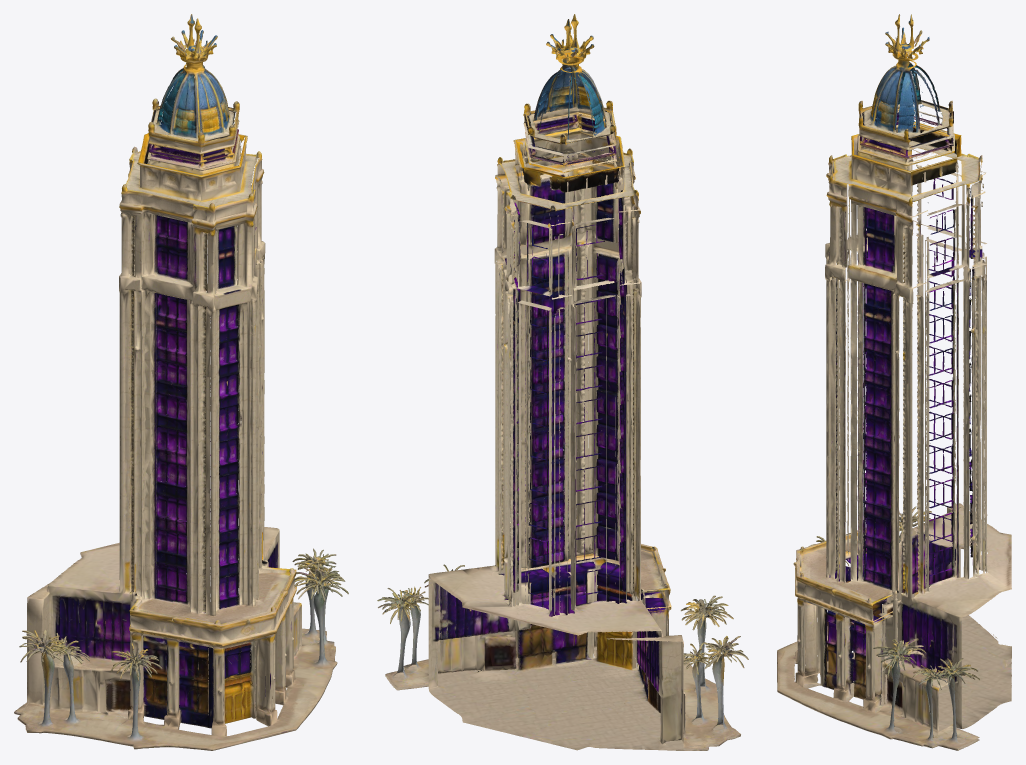
File: deco_block.glb
The picture shows the model from 3 angles, left to right: view 1: azimuth 30°, elevation 25°; view 2: azimuth 150°, elevation 25°; view 3: azimuth 270°, elevation 25°; orthographic projection. The views are drawn at different scales.
Bounding box in the file's own units: 0.9906 × 1.9 × 0.6126.
1 material, 1 textured.
